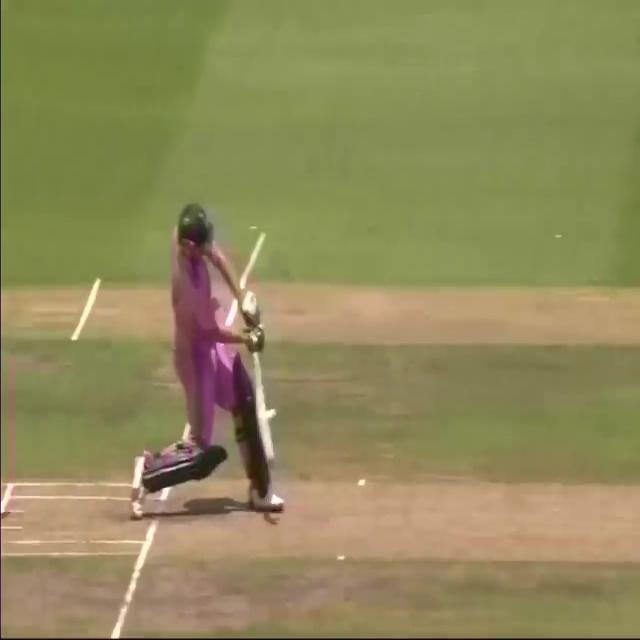Ball: (132, 197, 287, 525)
